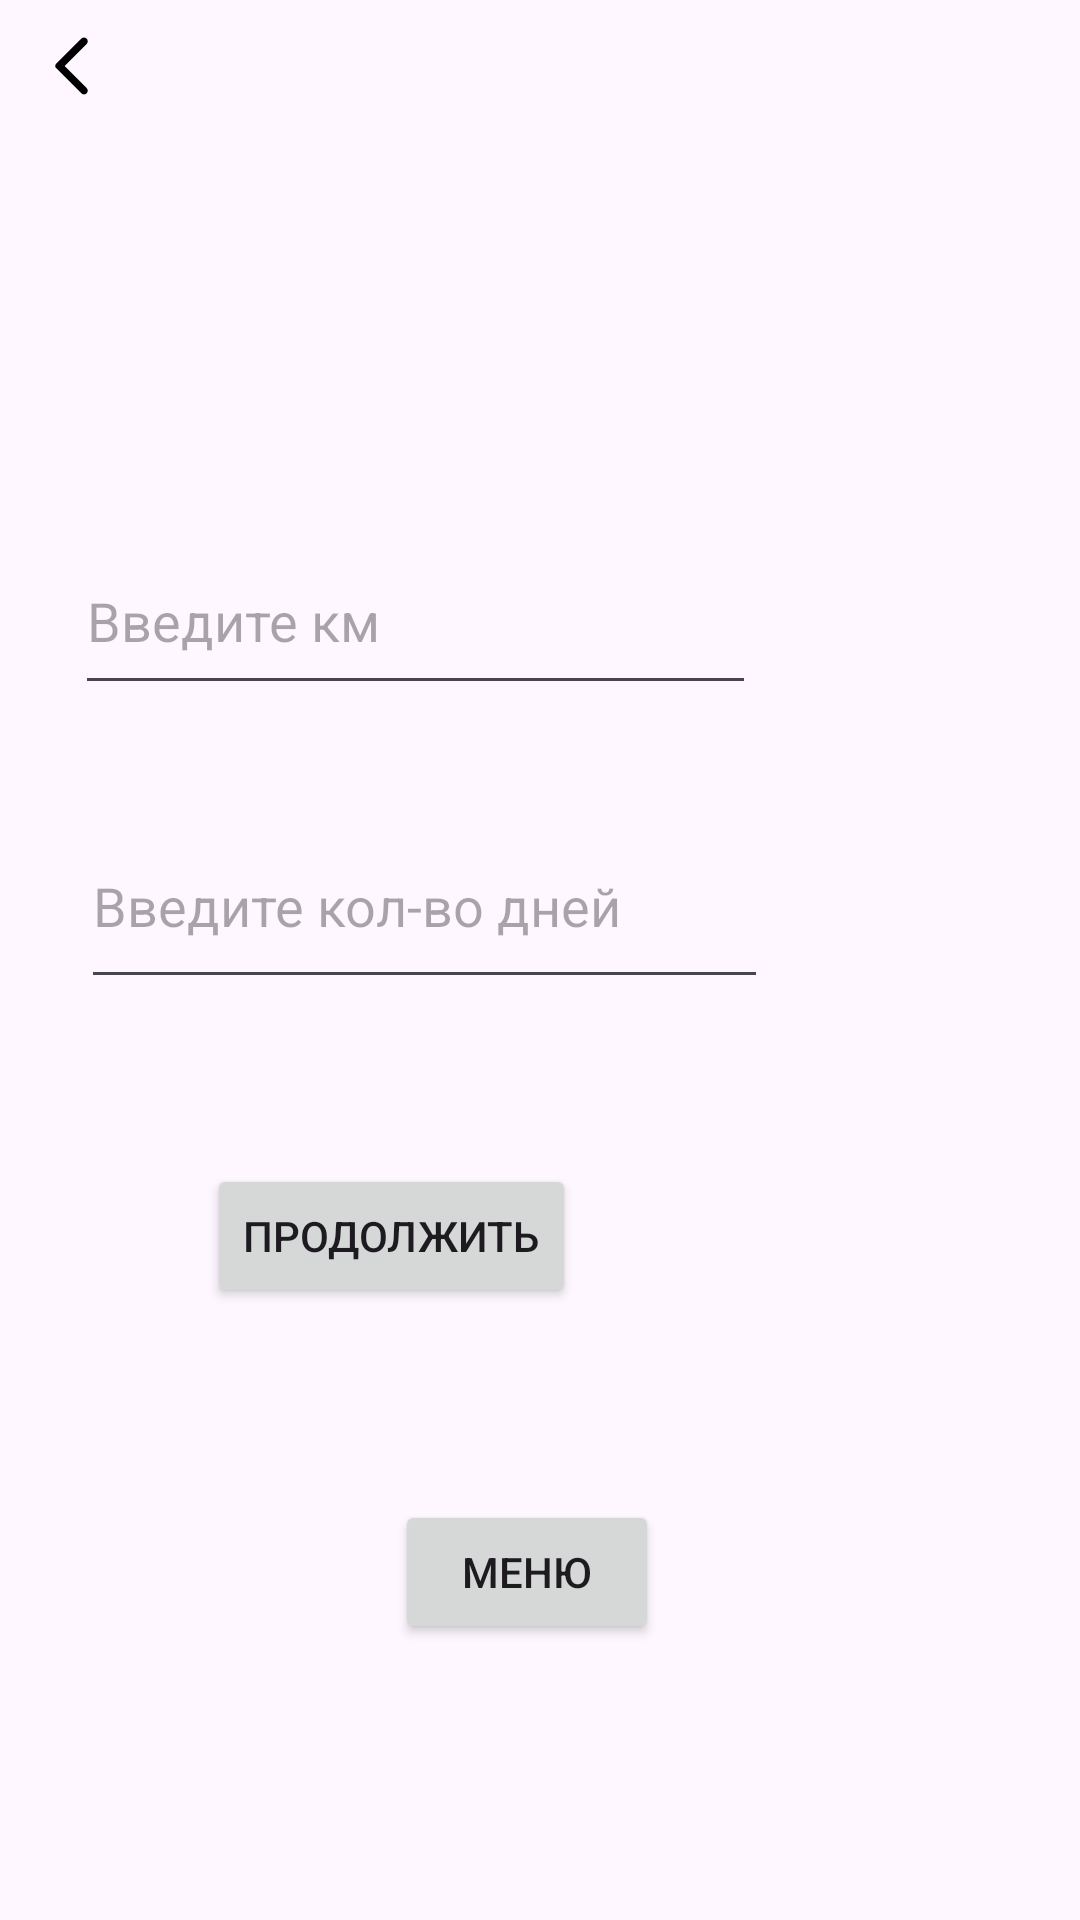

Named icons in this screenshot (1080*1920) and their bounding boxes, region(x1, y1, x2, y2):
back: region(55, 37, 88, 95)
